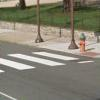Crosswalk: (5, 43, 71, 81)
